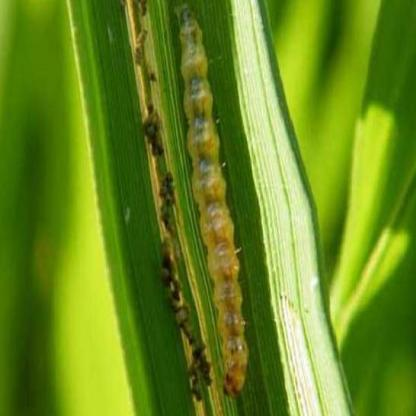leaf-folder: (162, 12, 294, 414)
